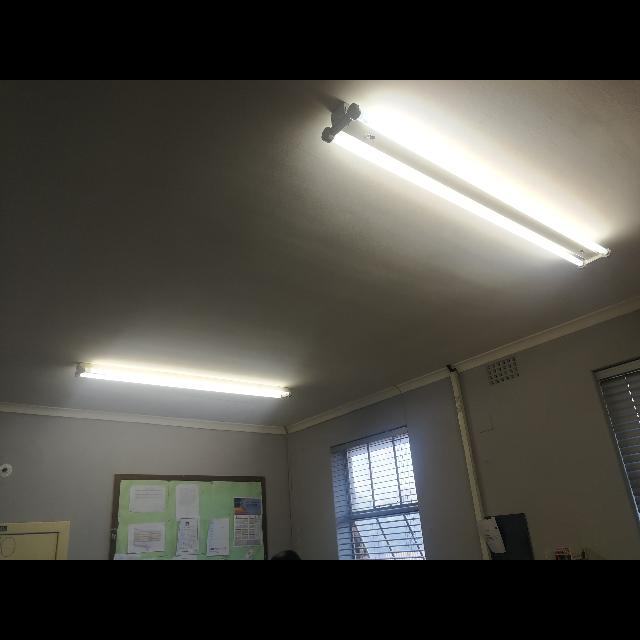Straight-Tube-Fluorescent-Lamp: (316, 95, 616, 282), (60, 348, 302, 418)
